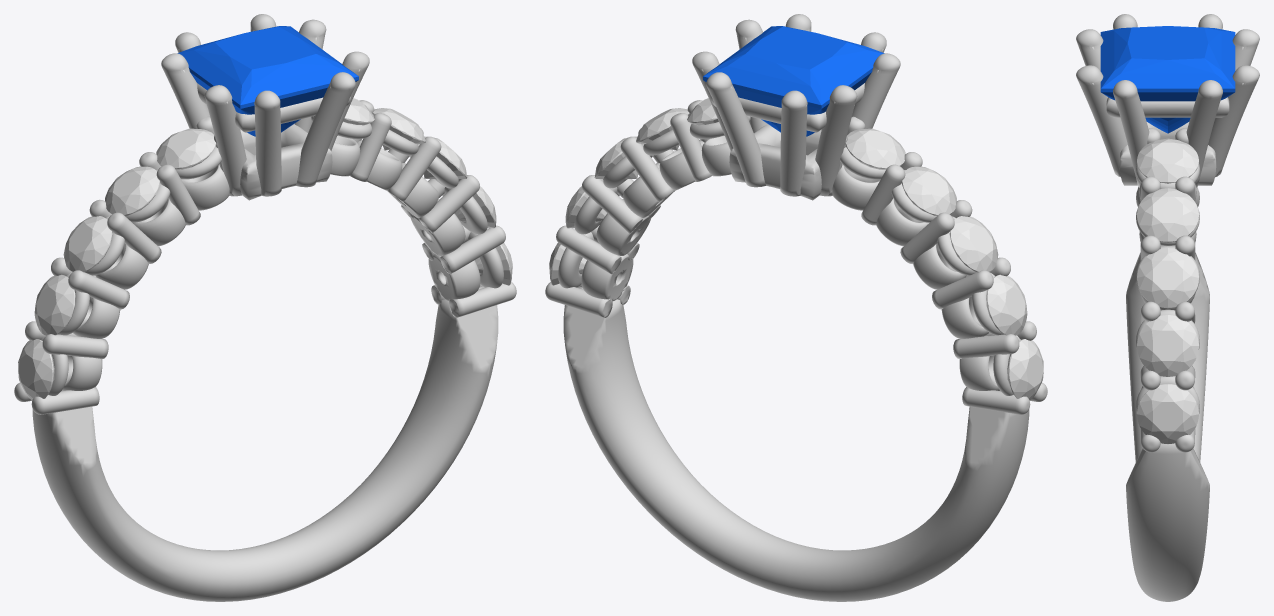
The model's file is bluesapphire-princess-platinum-8prong-taperedband-11stone.glb.
3 renders of one model, left to right at view 1: azimuth 30°, elevation 25°; view 2: azimuth 150°, elevation 25°; view 3: azimuth 270°, elevation 25°, orthographic.
Parts seen in each view (by area): view 1: metal, stone, side.002, side.003, side.001, side.004, side, side.006; view 2: metal, stone, side.002, side.003, side.001, side.004, side, side.006; view 3: metal, stone, side.008, side.007, side.009, side.006, side.005.
Boxes of the visible parts, x1,y1,x2,y2 form: metal: [14, 14, 516, 601]; stone: [177, 26, 358, 136]; side.002: [63, 216, 112, 272]; side.003: [105, 166, 159, 215]; side.001: [34, 274, 75, 335]; side.004: [156, 128, 216, 169]; side: [18, 339, 54, 399]; side.006: [372, 108, 425, 150]; metal: [545, 14, 1047, 601]; stone: [703, 26, 884, 136]; side.002: [949, 216, 998, 272]; side.003: [902, 166, 956, 215]; side.001: [986, 274, 1027, 335]; side.004: [845, 128, 905, 169]; side: [1007, 339, 1043, 400]; side.006: [636, 108, 689, 150]; metal: [1076, 14, 1259, 601]; stone: [1100, 26, 1235, 133]; side.008: [1137, 315, 1198, 376]; side.007: [1137, 248, 1198, 308]; side.009: [1137, 383, 1198, 443]; side.006: [1137, 188, 1198, 242]; side.005: [1137, 138, 1198, 183].
Size of the model in its own units: 22.05 by 23.85 by 7.42.
